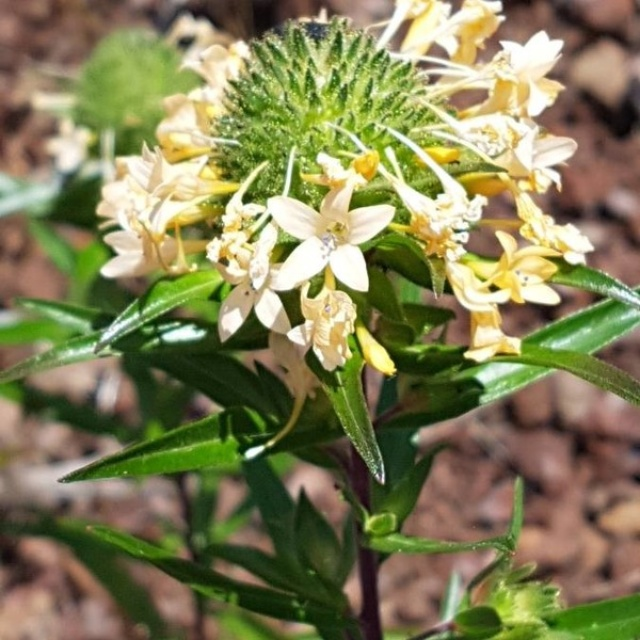obstacle: (66, 15, 590, 591)
